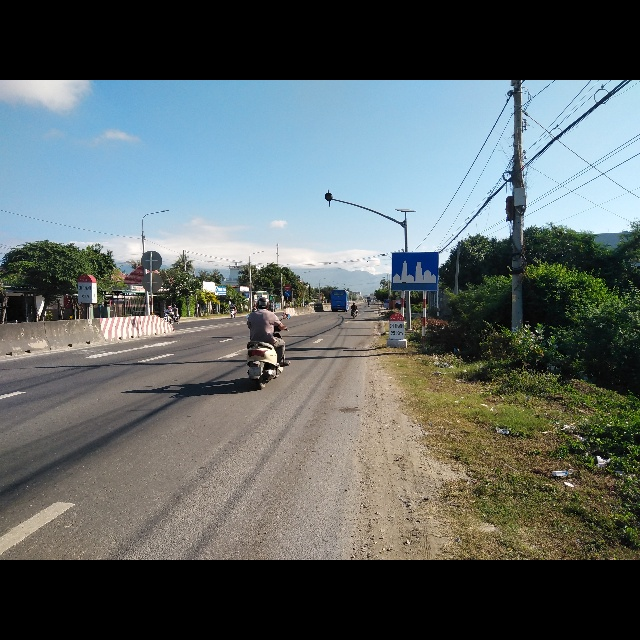Khu đông dân cư: (391, 250, 439, 289)
